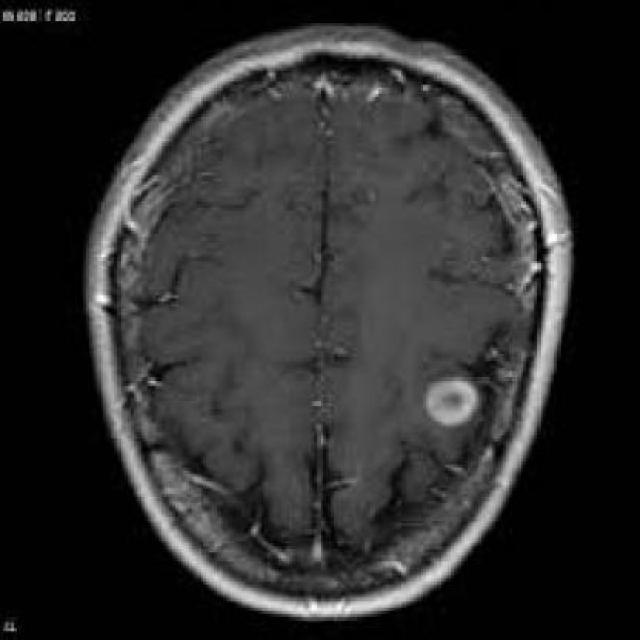Tumor: (427, 382, 470, 444)
